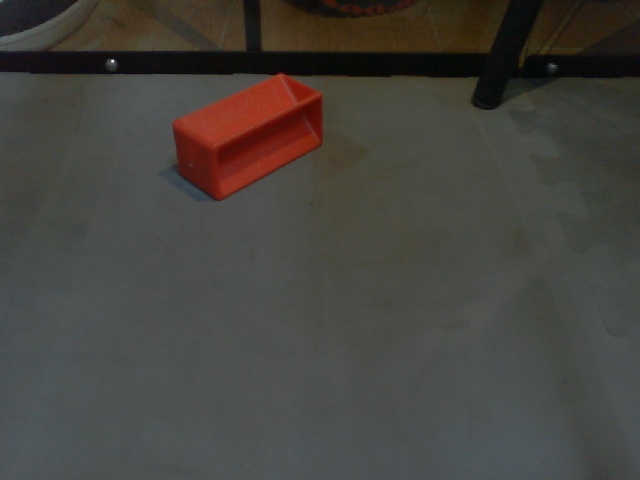RedSample: (172, 71, 324, 203)
